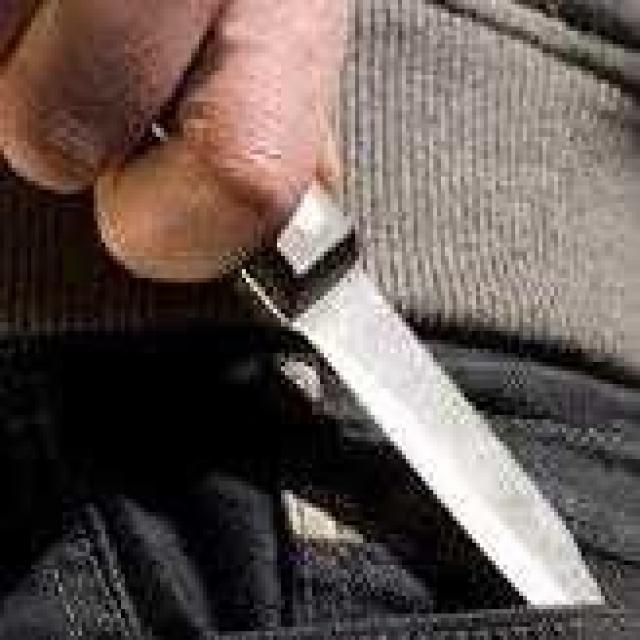knife: (98, 71, 640, 640)
